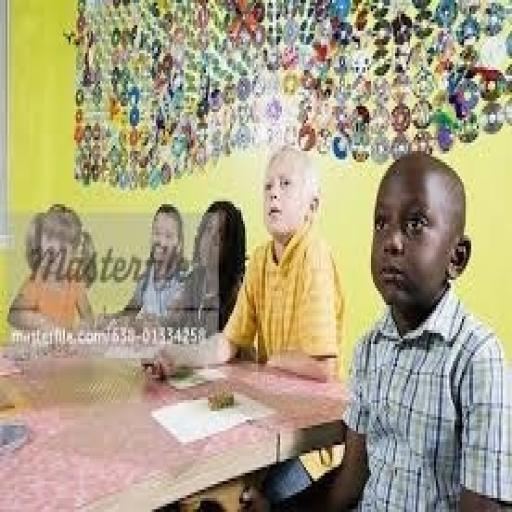sitting: (6, 140, 508, 506), (8, 201, 98, 336), (122, 201, 193, 322)
